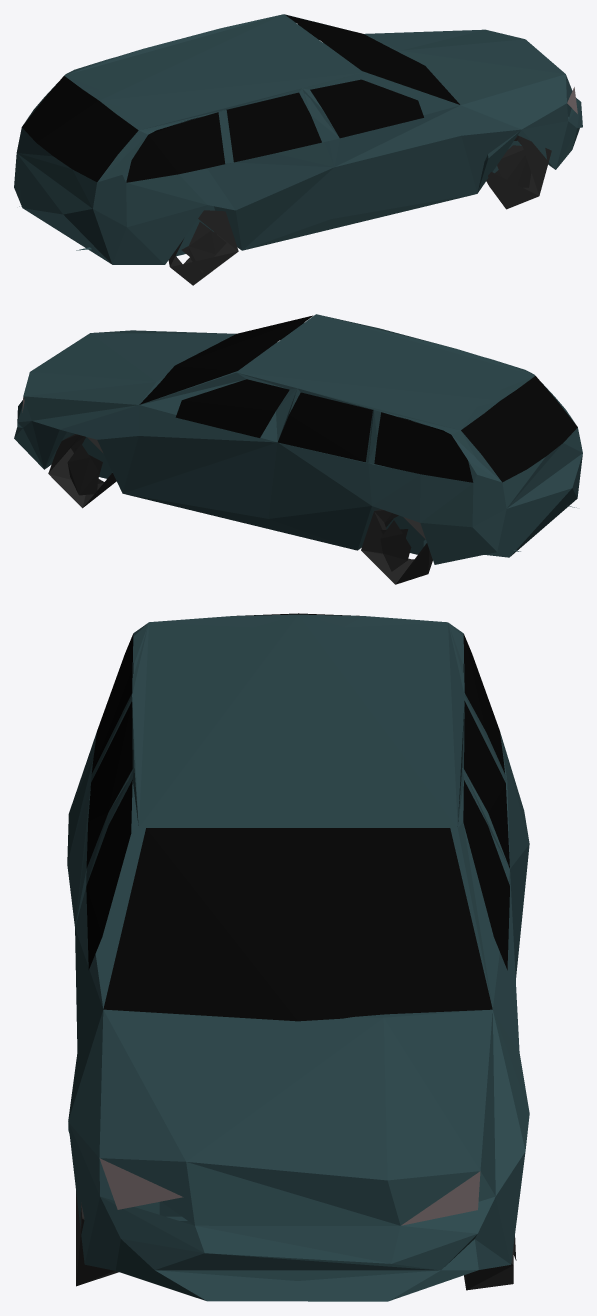
The model's file is pc-wagon.lod2.glb.
The picture shows the model from 3 angles, top to bottom: view 1: azimuth 30°, elevation 25°; view 2: azimuth 150°, elevation 25°; view 3: azimuth 270°, elevation 25°; orthographic projection. The views are drawn at different scales.
Visible parts, largest first — view 1: Wagon Body_Body_0; view 2: Wagon Body_Body_0; view 3: Wagon Body_Body_0.
Boxes of the visible parts, x1=… form: Wagon Body_Body_0: x1=14, y1=14, x2=582, y2=285; Wagon Body_Body_0: x1=14, y1=314, x2=582, y2=584; Wagon Body_Body_0: x1=67, y1=613, x2=529, y2=1301.
Bounding box in the file's own units: 4.36 × 1.29 × 1.69.
